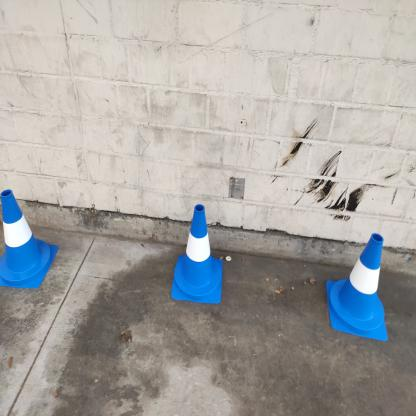Cones_small_blue: (325, 222, 397, 358), (162, 193, 228, 310), (0, 183, 60, 302)
